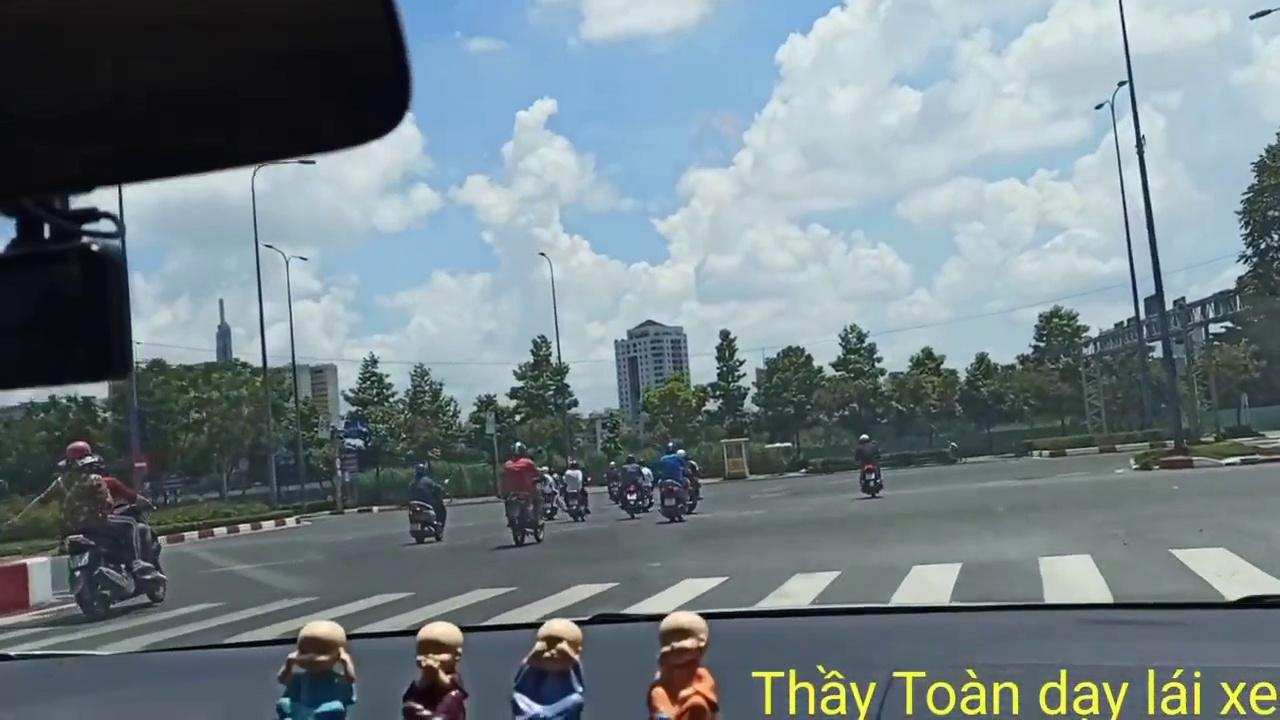Cấm đi ngược chiều: (130, 449, 152, 480)
